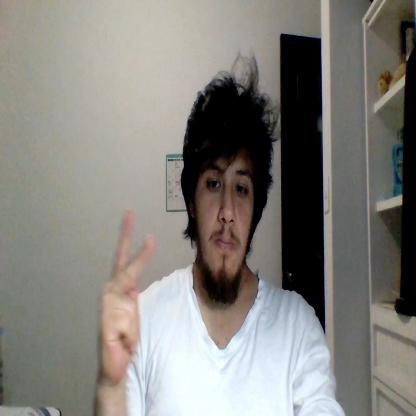P: (97, 210, 154, 380)
